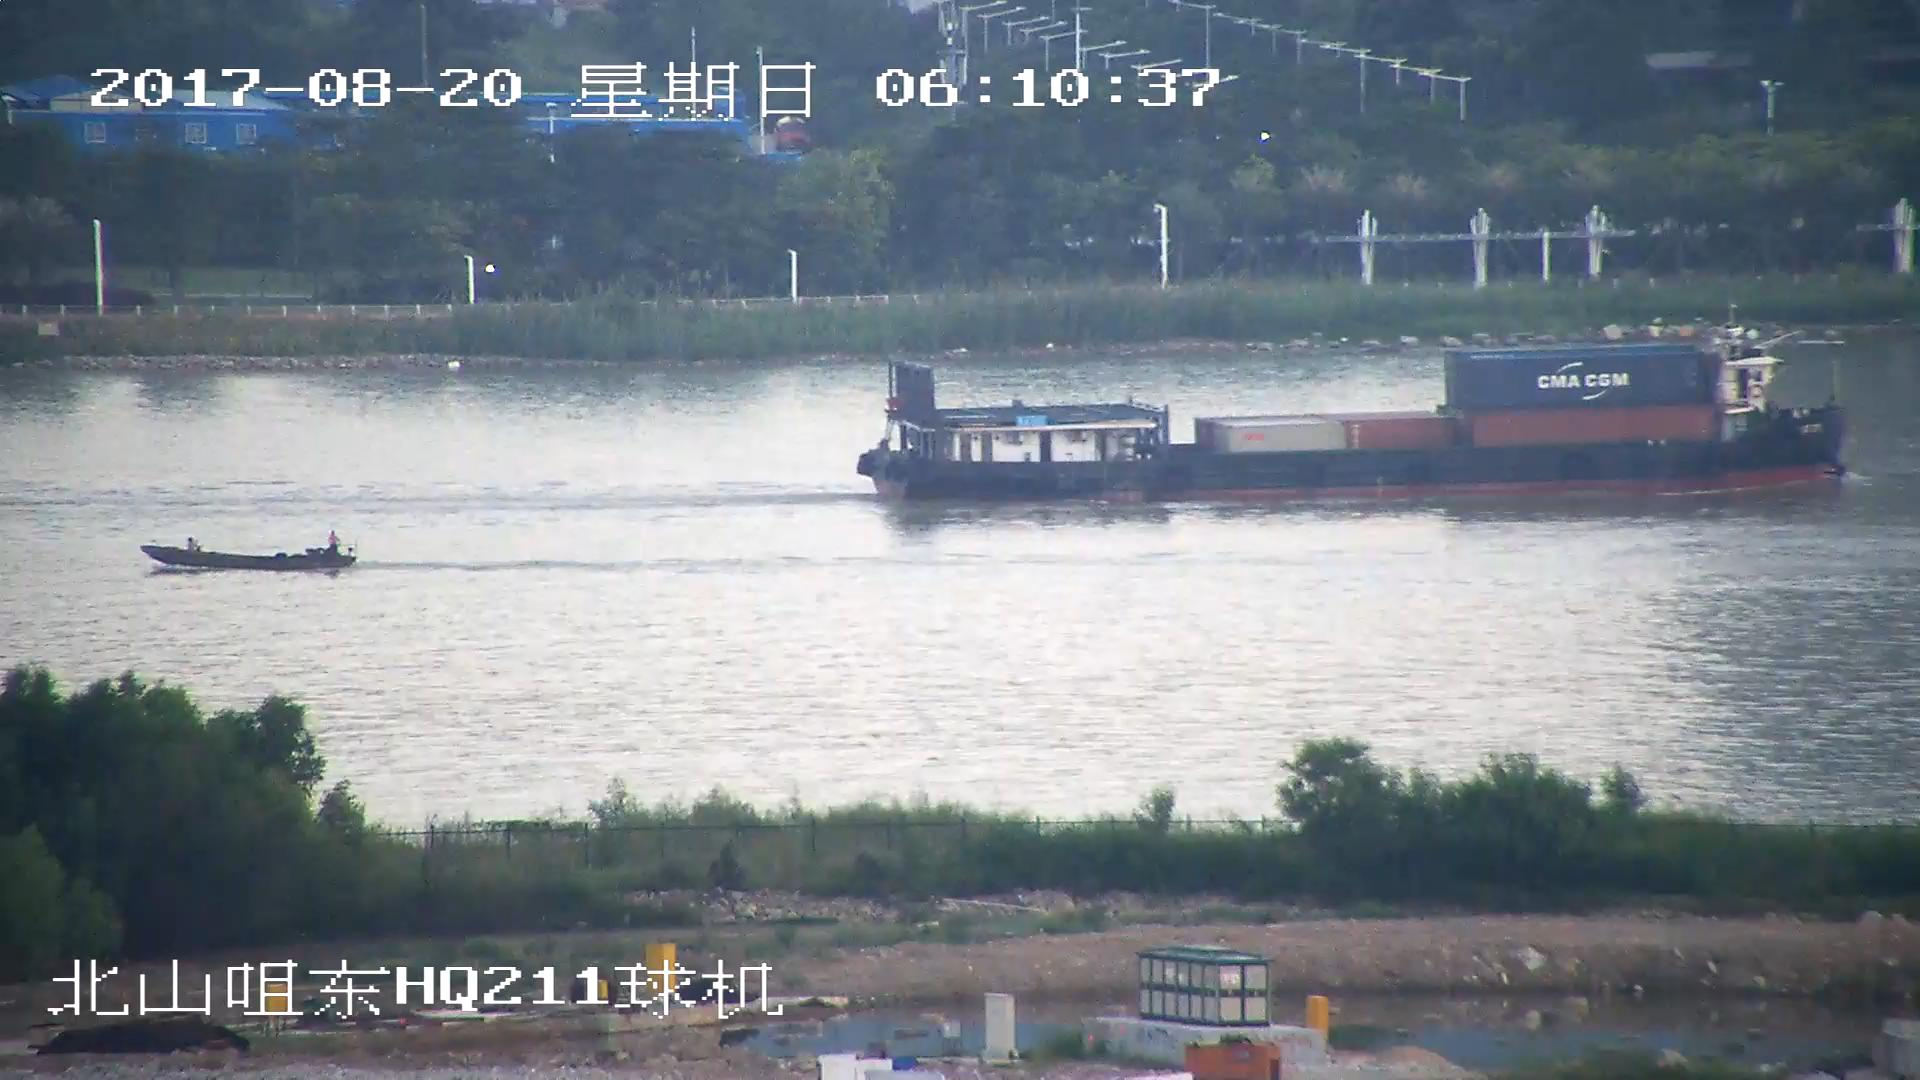container ship: (857, 327, 1844, 509)
fishing boat: (137, 527, 356, 580)
